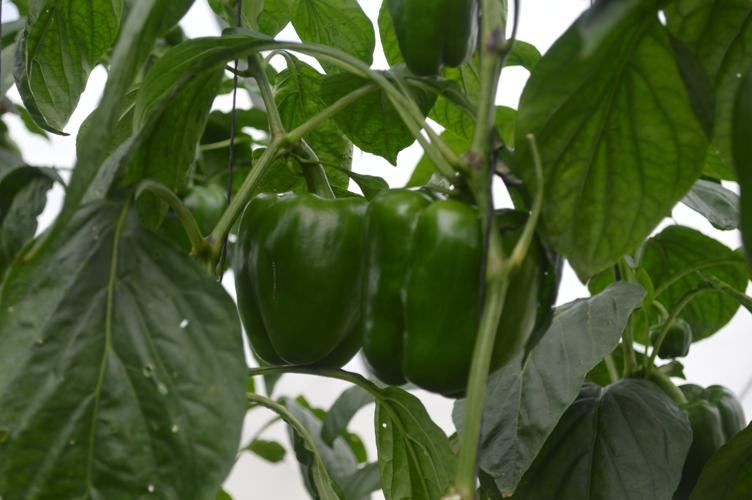BellPepper: (363, 185, 542, 388), (224, 195, 363, 369), (669, 382, 743, 484), (380, 3, 485, 74)
